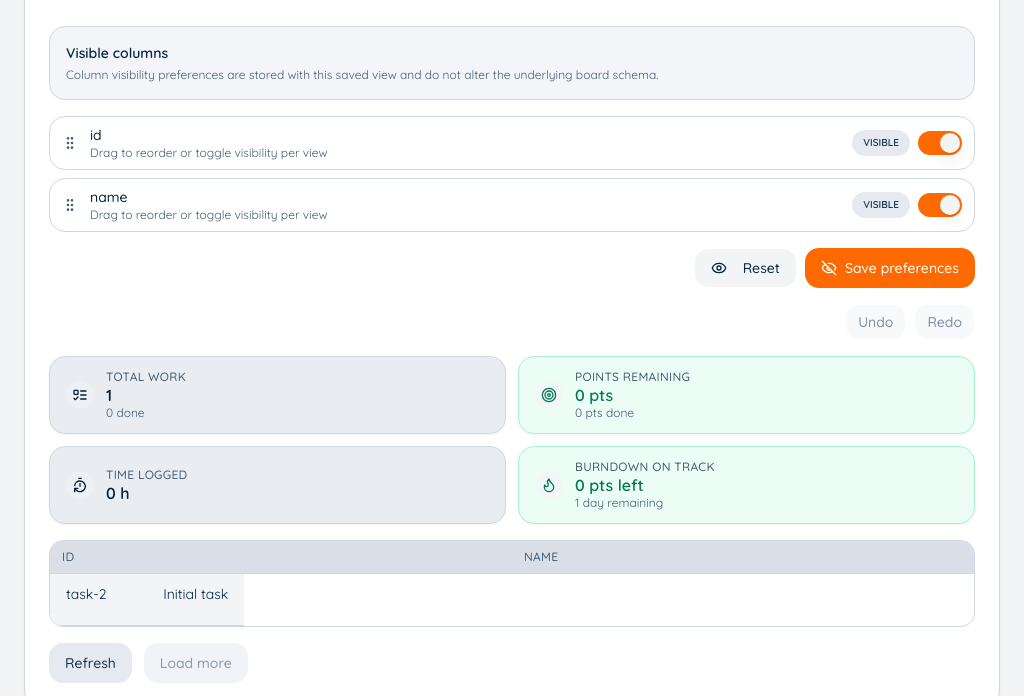
Boards route flows › supports refreshing query views with incremental payloads
(page scrolled)
Check: the field "Initial task" is shown, box top-left (159, 582), bottom-right (232, 606)
Click the button "Refresh" at x=90, y=663, box top-left (49, 643), bottom-right (132, 683)
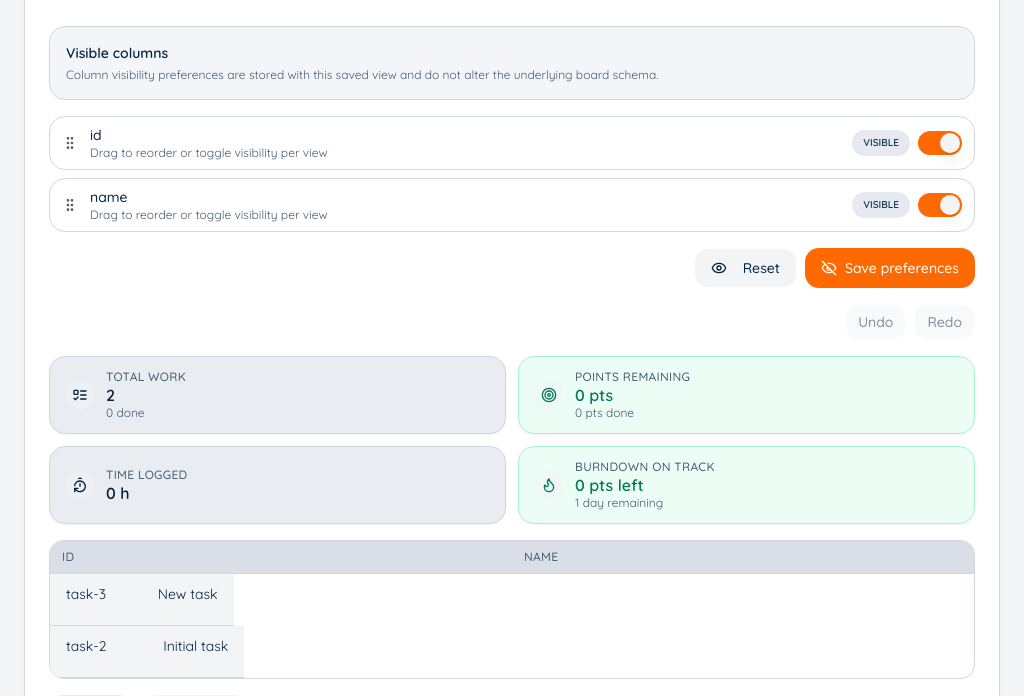
Check: the field "New task" is shown, box top-left (154, 582), bottom-right (222, 606)
